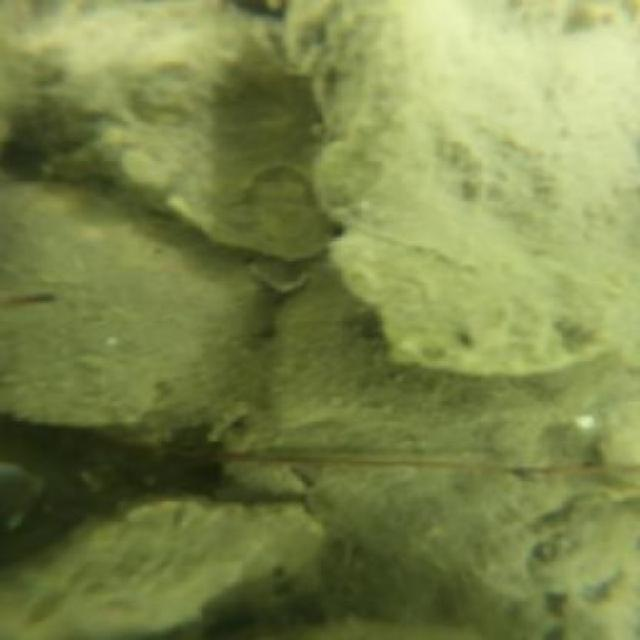Oyster-Indeterminate: (284, 0, 640, 372), (1, 0, 326, 266), (1, 177, 269, 435), (0, 498, 325, 638)
